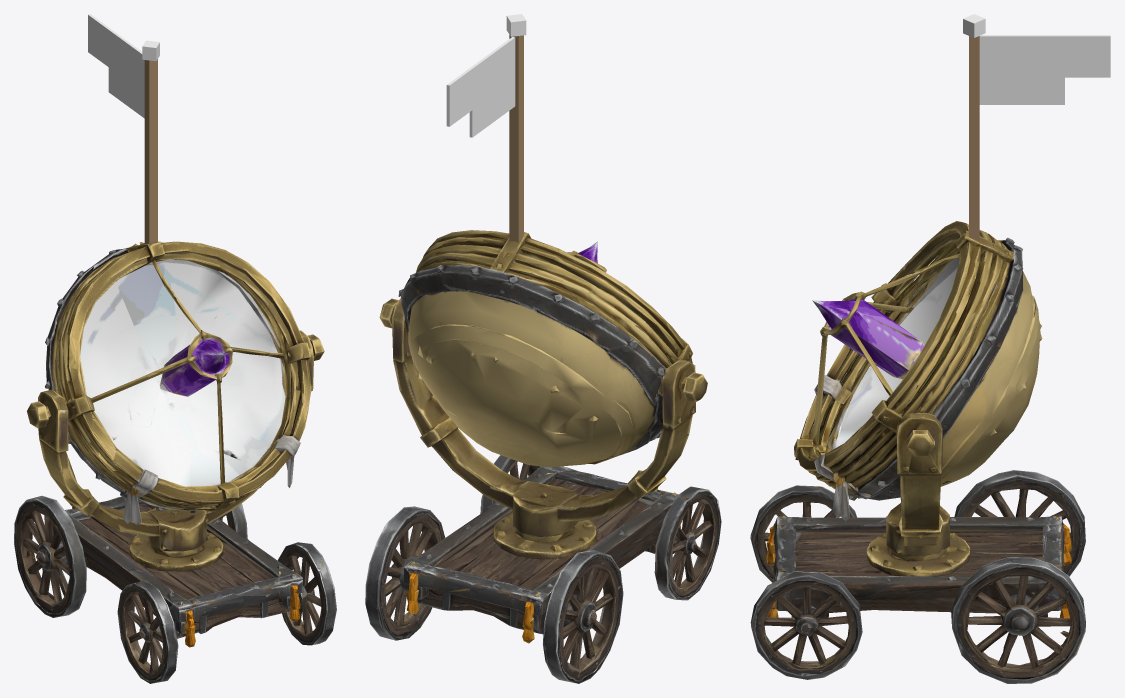
The model's file is dune_mirror_engine.glb.
3 views of the same model, side by side, from view 1: azimuth 30°, elevation 25°; view 2: azimuth 150°, elevation 25°; view 3: azimuth 270°, elevation 25° (orthographic). The views are drawn at different scales.
Parts seen in each view (by area): view 1: dune_mirror_engine, Team_pennant; view 2: dune_mirror_engine, Team_pennant; view 3: dune_mirror_engine, Team_pennant.
Part boxes in pixels (<box>): dune_mirror_engine: <box>14,241,336,683</box>; Team_pennant: <box>88,14,159,243</box>; dune_mirror_engine: <box>365,230,721,683</box>; Team_pennant: <box>446,14,526,242</box>; dune_mirror_engine: <box>750,221,1085,683</box>; Team_pennant: <box>963,14,1110,241</box>.
Bounding box in the file's own units: 1.56 × 2.91 × 1.53.
Materials: 3 (1 with a texture image).
